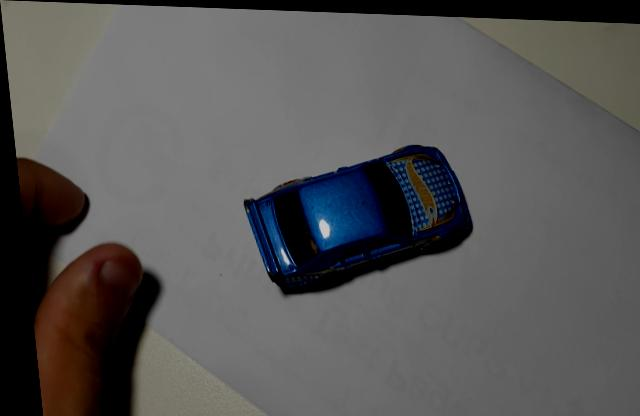04_MERZEDES: (240, 142, 470, 294)
